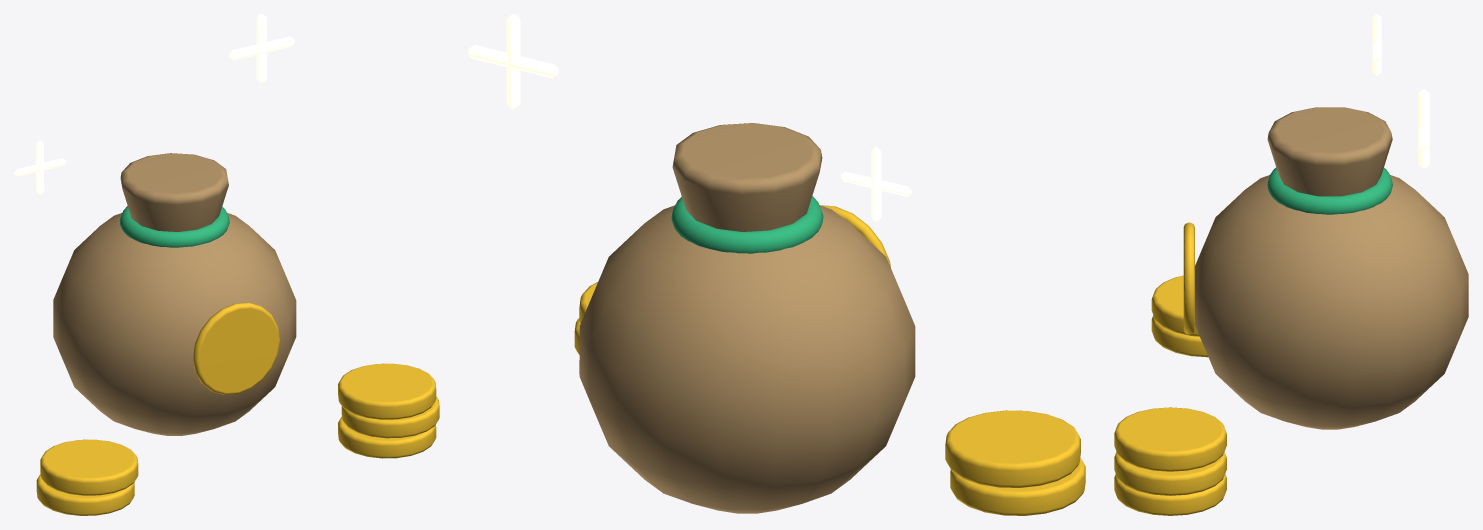
The model's file is s_windfall.glb.
The picture shows the model from 3 angles, left to right: view 1: azimuth 30°, elevation 25°; view 2: azimuth 150°, elevation 25°; view 3: azimuth 270°, elevation 25°; orthographic projection. The views are drawn at different scales.
Visible parts, largest first — view 1: Sphere; view 2: Sphere; view 3: Sphere.
Part boxes in pixels (bbox=[...]): Sphere: bbox=[14, 14, 439, 515]; Sphere: bbox=[468, 14, 1085, 515]; Sphere: bbox=[1114, 14, 1468, 515].
Size of the model in its own units: 0.525 by 0.4675 by 0.3777.
